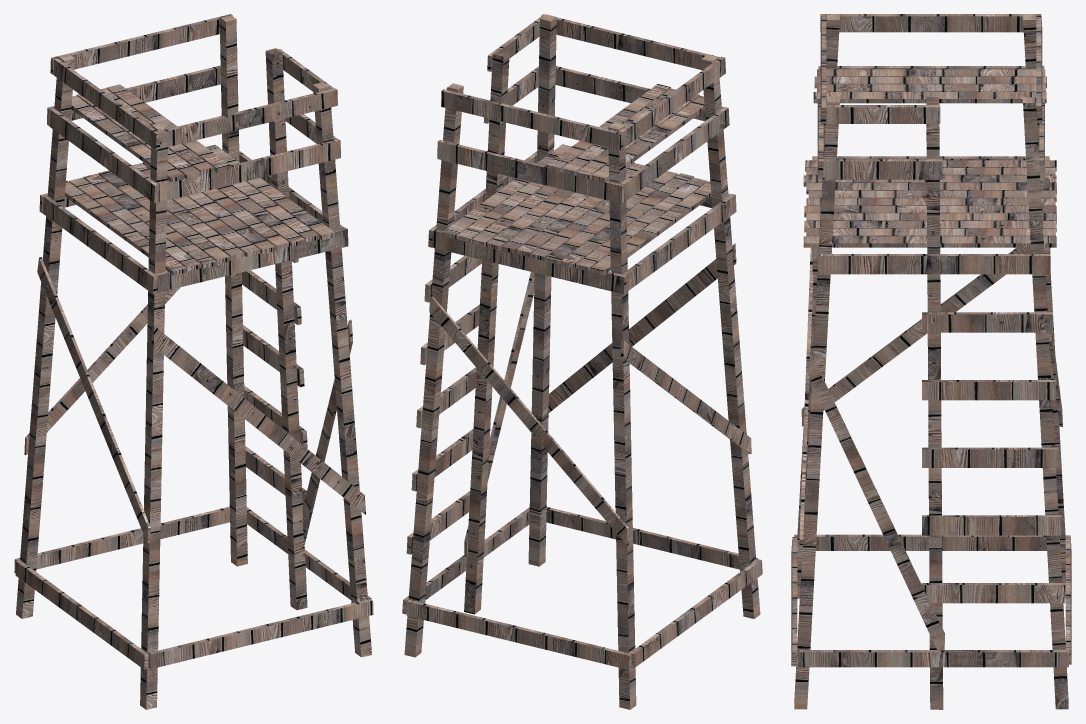
The model's file is Watch_Tower.glb.
3 renders of one model, left to right at view 1: azimuth 30°, elevation 25°; view 2: azimuth 150°, elevation 25°; view 3: azimuth 270°, elevation 25°, orthographic. The views are drawn at different scales.
Visible parts, largest first — view 1: WoodenTower; view 2: WoodenTower; view 3: WoodenTower.
Boxes of the visible parts, <box> form: WoodenTower: <box>14,14,373,709</box>; WoodenTower: <box>402,14,762,709</box>; WoodenTower: <box>791,14,1071,709</box>.
Size of the model in its own units: 1.71 by 4 by 1.71.
1 material, 1 textured.
